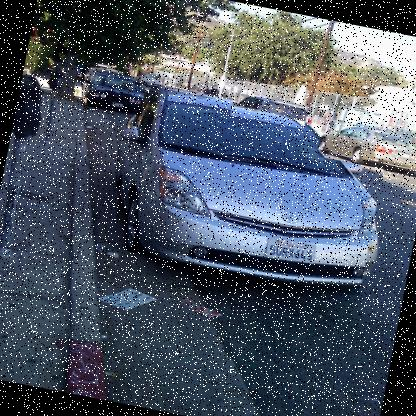Car: (108, 81, 392, 296), (315, 119, 415, 177), (227, 92, 309, 149), (80, 70, 147, 116), (82, 64, 127, 100), (135, 70, 162, 90), (81, 62, 95, 76), (94, 62, 108, 70)
